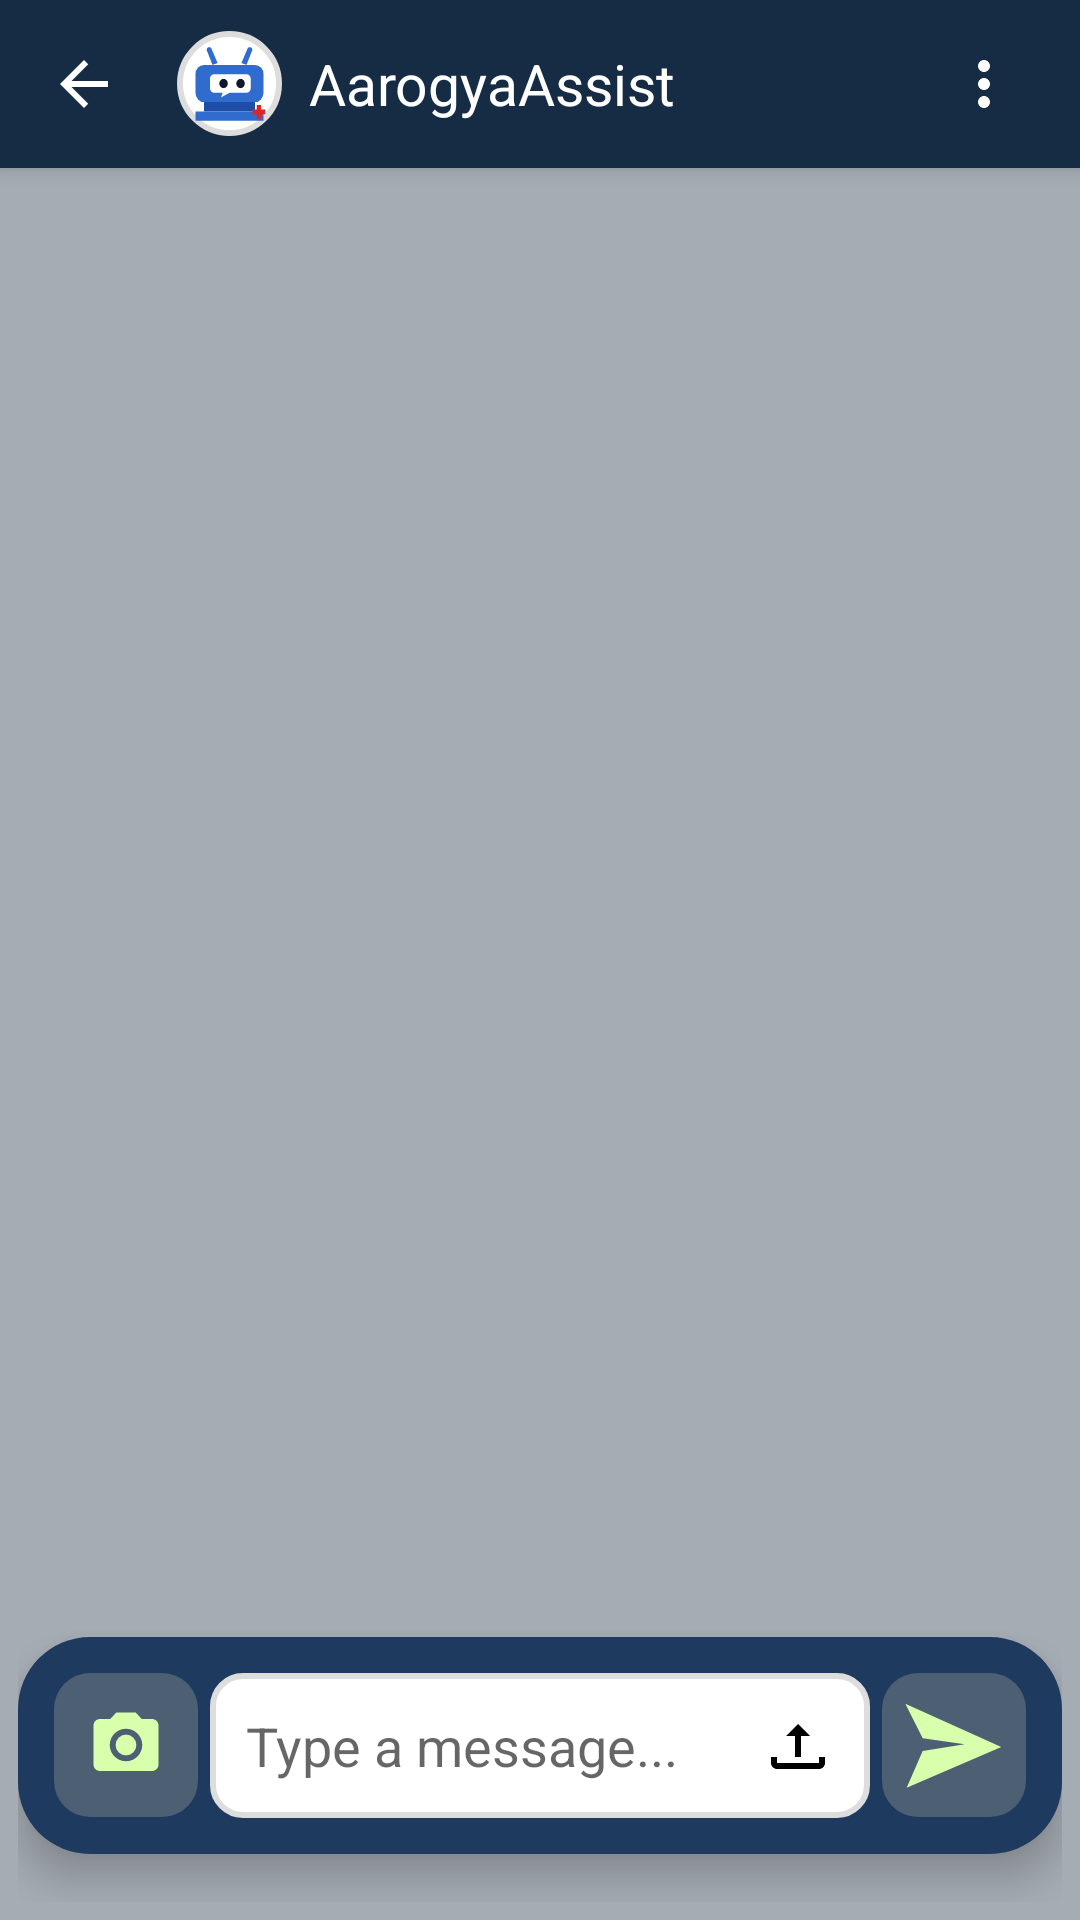

Named icons in this screenshot (1080 × 1920) and their bounding boxes, rect(x1, y1, x2, y2):
back: rect(60, 60, 108, 108)
camera: rect(54, 1673, 198, 1817)
chatbot: rect(177, 31, 282, 136)
Menu options: rect(978, 60, 990, 108)
send: rect(882, 1673, 1026, 1817)
upload: rect(771, 1724, 825, 1769)
